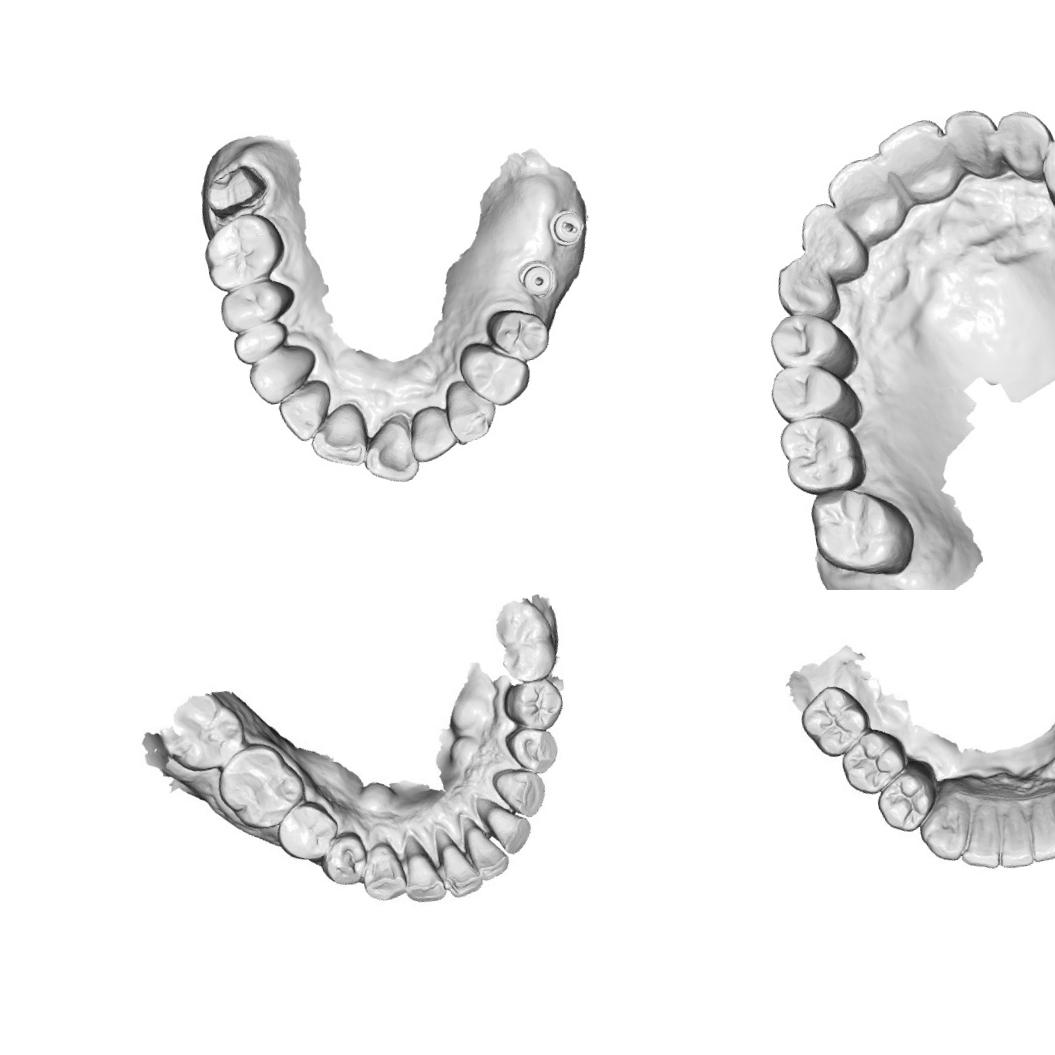canine: (771, 248, 844, 328), (242, 339, 324, 410), (991, 103, 1055, 187), (440, 372, 502, 449), (914, 796, 974, 868), (489, 762, 550, 822), (356, 838, 409, 904)
crown: (194, 158, 273, 224)
implant: (514, 256, 559, 300)
implant_minus: (543, 204, 589, 251)
incisor: (818, 151, 906, 243), (870, 113, 956, 201), (791, 196, 868, 284), (301, 396, 373, 474), (939, 102, 1009, 180), (354, 414, 424, 490), (273, 378, 339, 446), (954, 796, 1006, 875), (396, 830, 448, 906), (402, 400, 460, 467), (435, 829, 486, 900), (461, 818, 512, 884), (988, 800, 1034, 870), (484, 800, 535, 858), (1024, 798, 1055, 866)
molar: (801, 478, 912, 584), (210, 734, 310, 835), (774, 408, 870, 500), (152, 687, 250, 777), (196, 206, 290, 292), (490, 592, 561, 686), (795, 678, 872, 758)
premolar: (765, 354, 862, 430), (454, 334, 536, 413), (762, 306, 854, 376), (835, 724, 917, 800), (214, 272, 302, 337), (481, 300, 555, 368), (272, 796, 342, 864), (870, 766, 936, 836), (500, 674, 567, 736), (228, 316, 294, 370), (502, 720, 562, 778), (314, 828, 370, 890), (1034, 123, 1055, 215)
